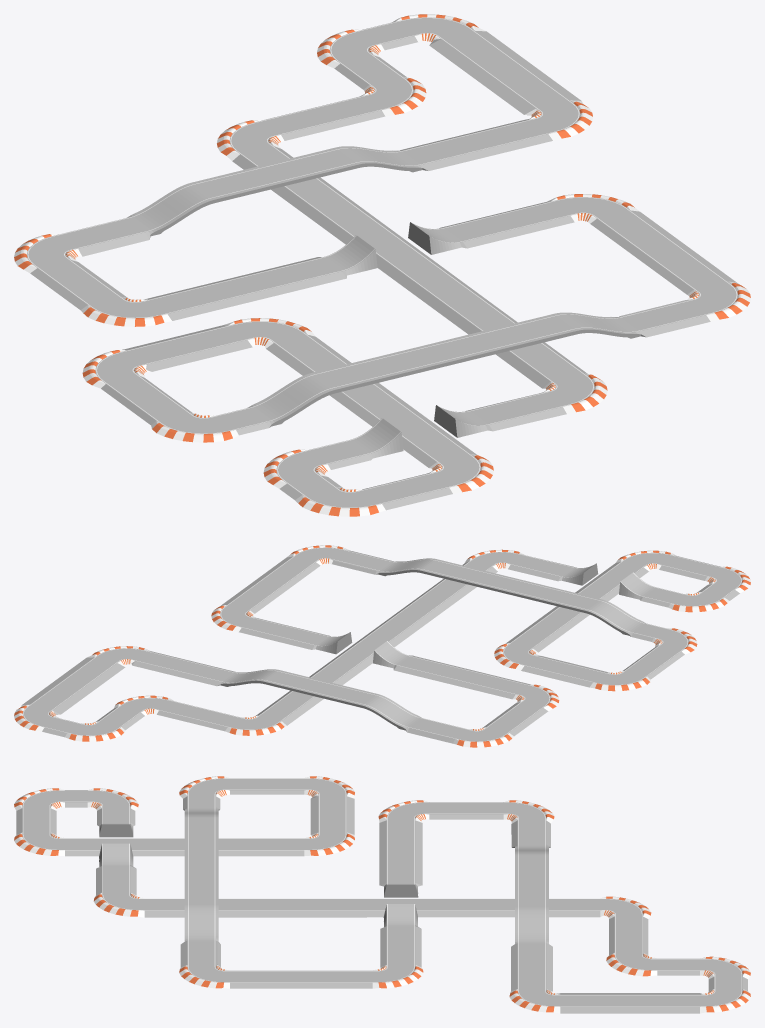
File: Track.fbx
The picture shows the model from 3 angles, top to bottom: view 1: azimuth 30°, elevation 25°; view 2: azimuth 150°, elevation 25°; view 3: azimuth 270°, elevation 25°; orthographic projection. The views are drawn at different scales.
Parts seen in each view (by area): view 1: Track; view 2: Track; view 3: Track.
Part boxes in pixels (left/top/right/bottom): Track: left=14, top=14, right=750, bottom=516; Track: left=14, top=545, right=750, bottom=747; Track: left=14, top=776, right=750, bottom=1013.
Bounding box in the file's own units: 196 × 6.66 × 259.
